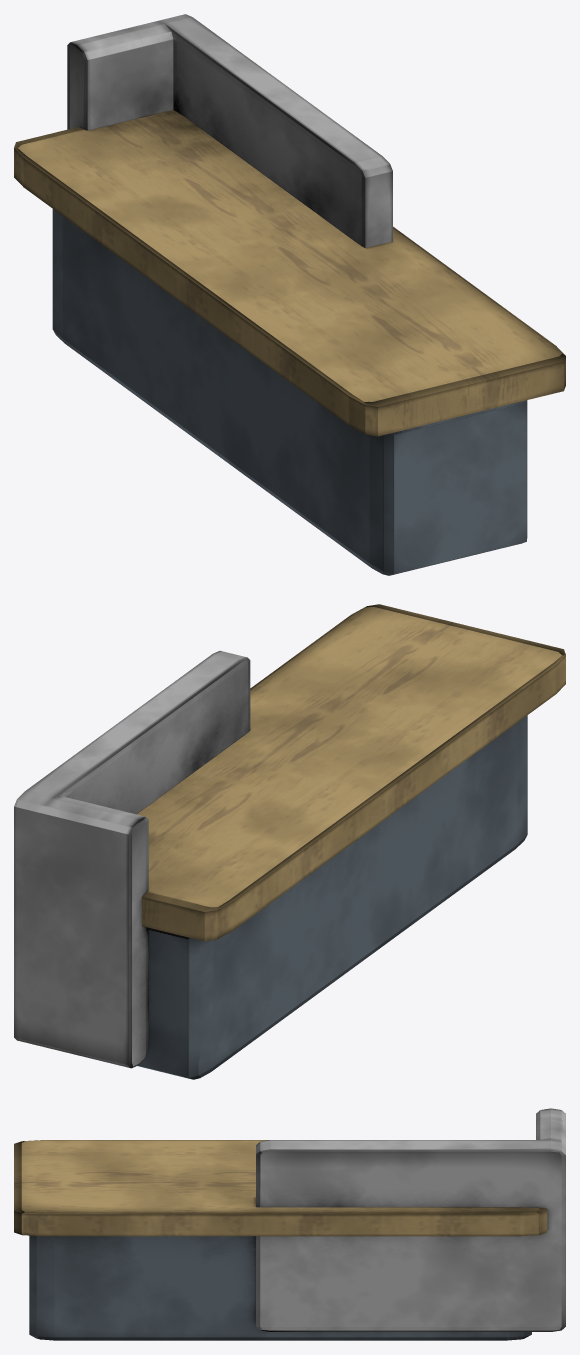
File: Receptionis.fbx
3 views of the same model, one above another, from view 1: azimuth 30°, elevation 25°; view 2: azimuth 150°, elevation 25°; view 3: azimuth 270°, elevation 25° (orthographic). The views are drawn at different scales.
Visible parts, largest first — view 1: Cube.015, Cube.013, Cube.018; view 2: Cube.015, Cube.018, Cube.013; view 3: Cube.018, Cube.015, Cube.013.
Boxes of the visible parts, x1,y1,x2,y2 form: Cube.015: (14,110,565,436); Cube.013: (52,209,527,575); Cube.018: (67,14,392,247); Cube.015: (137,604,565,941); Cube.018: (14,650,250,1068); Cube.013: (138,715,527,1079); Cube.018: (256,1108,565,1331); Cube.015: (14,1140,547,1236); Cube.013: (29,1235,531,1340).
Bounding box in the file's own units: 70 × 86.75 × 220.
1 material, 1 textured.
